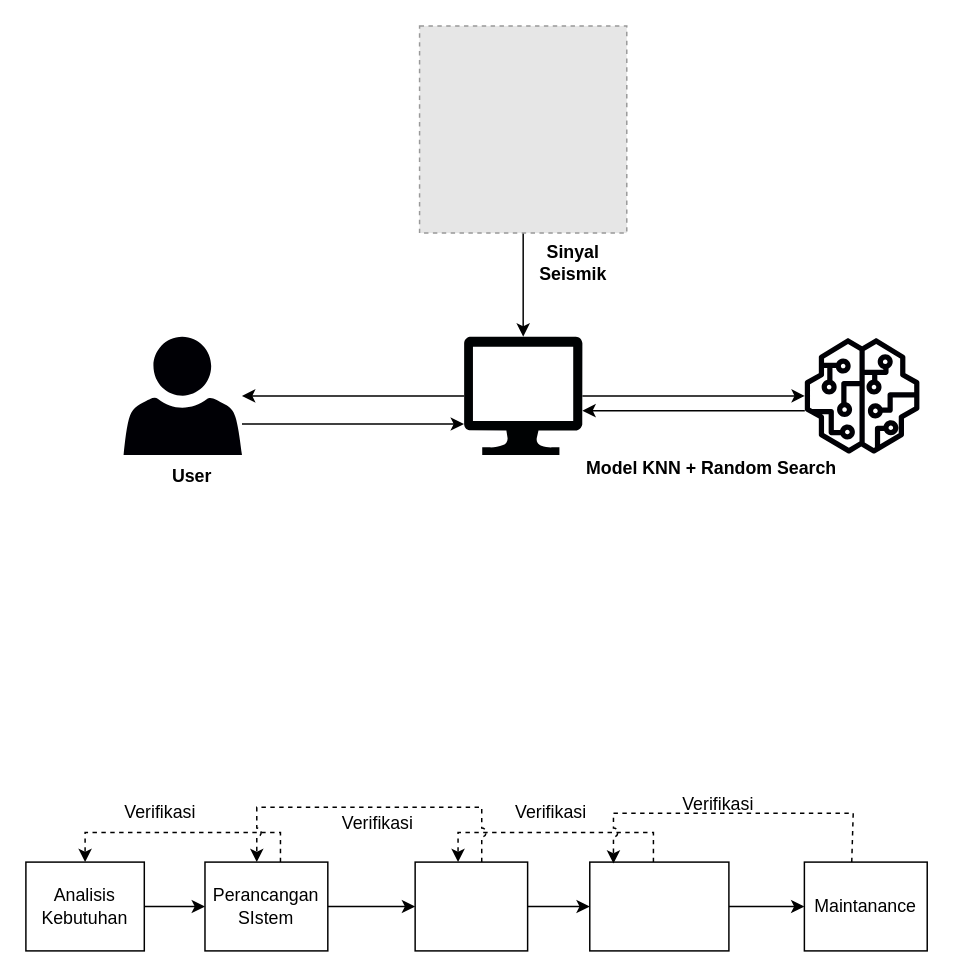
Image size: 953x977. Some labels were removed from this diagram. Grey dashed boxes stand in for pictures. The centre of each missing label's shape, as x and y in pixels:
"Implementasi" belongs at [471,906].
"Pengujian Sistem" belongs at [658,906].
